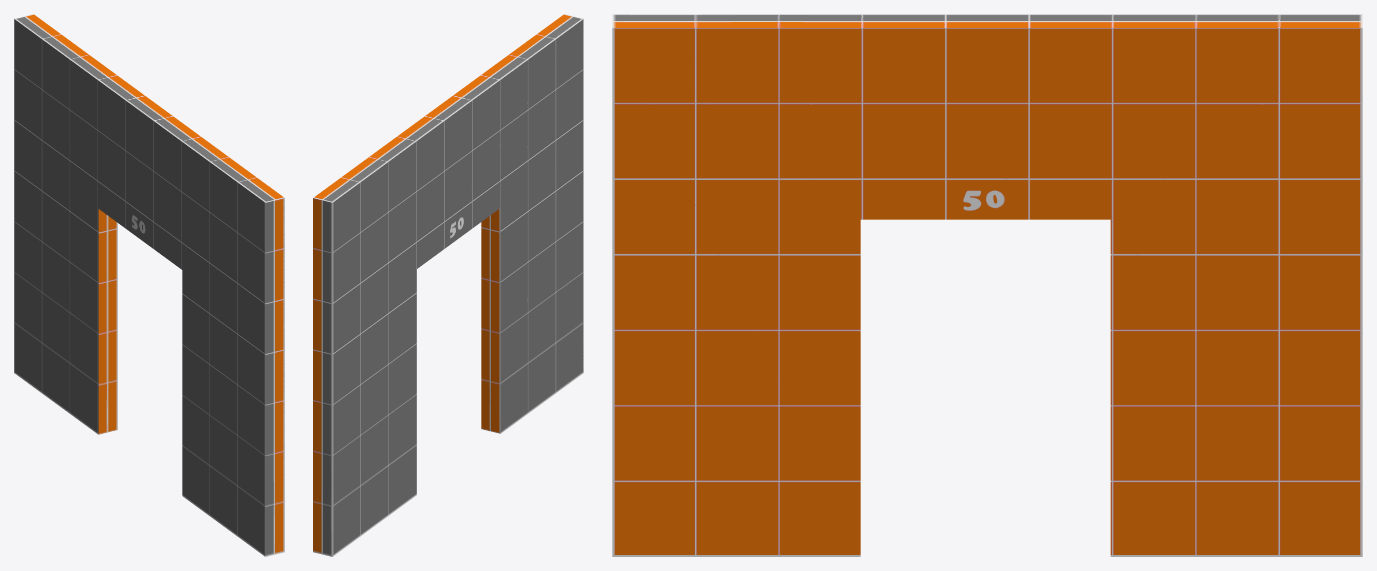
Rendered from casa_puerta_01.fbx.
3 views of the same model, side by side, from view 1: azimuth 30°, elevation 25°; view 2: azimuth 150°, elevation 25°; view 3: azimuth 270°, elevation 25° (orthographic). The views are drawn at different scales.
Parts seen in each view (by area): view 1: casa_puerta_01; view 2: casa_puerta_01; view 3: casa_puerta_01.
Part boxes in pixels (left/top/right/bottom): casa_puerta_01: left=14, top=14, right=284, bottom=556; casa_puerta_01: left=313, top=14, right=583, bottom=556; casa_puerta_01: left=612, top=14, right=1362, bottom=556.
Size of the model in its own units: 20 by 350 by 450.
